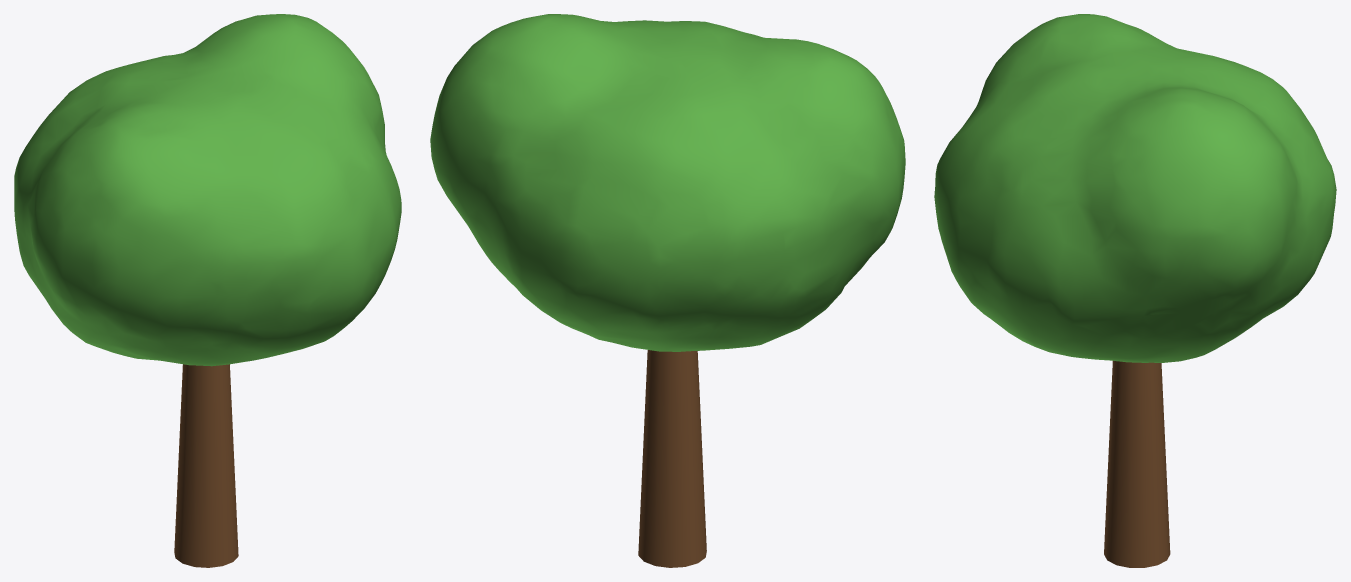
The model's file is fruit_tree.glb.
The picture shows the model from 3 angles, left to right: view 1: azimuth 30°, elevation 25°; view 2: azimuth 150°, elevation 25°; view 3: azimuth 270°, elevation 25°; orthographic projection. The views are drawn at different scales.
Visible parts, largest first — view 1: Canopy, Trunk; view 2: Canopy, Trunk; view 3: Canopy, Trunk.
Part boxes in pixels (x1,y1,x2,y2): Canopy: [14, 14, 401, 366]; Trunk: [174, 364, 238, 567]; Canopy: [430, 14, 905, 351]; Trunk: [638, 350, 706, 567]; Canopy: [934, 14, 1336, 362]; Trunk: [1104, 361, 1170, 567].
Bounding box in the file's own units: 1.97 × 2.5 × 1.82.
